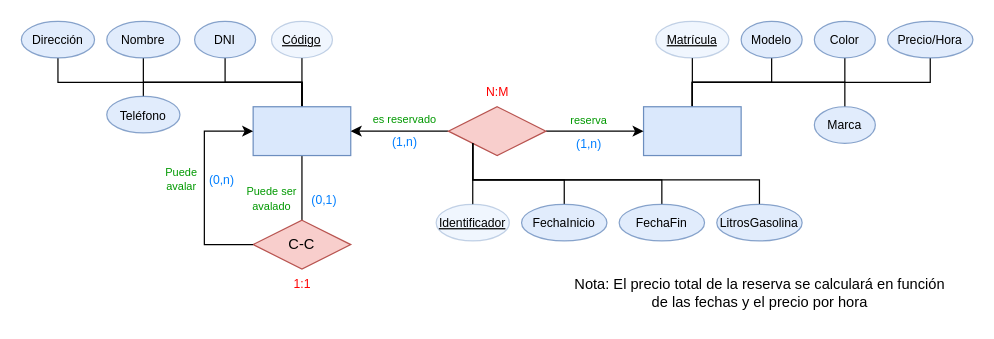
Some shapes in this 994 by 339 pixel diagram are drawn without their labels. The box of each missing label's shape, as (x1, y1, x2, y2) in pixels:
Automóvil: (642, 106, 741, 156)
C-A: (447, 106, 546, 156)
Cliente: (252, 106, 351, 156)
